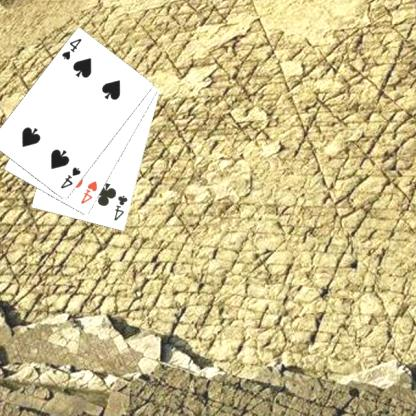4C: (111, 192, 129, 223)
4H: (78, 178, 98, 206)
4S: (58, 164, 82, 190), (59, 36, 83, 62)
